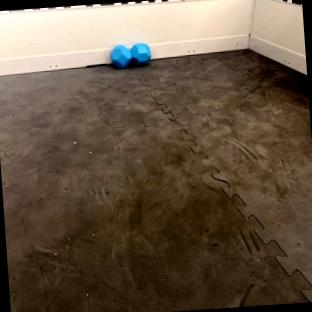V5_BLUE: (111, 43, 150, 67)
